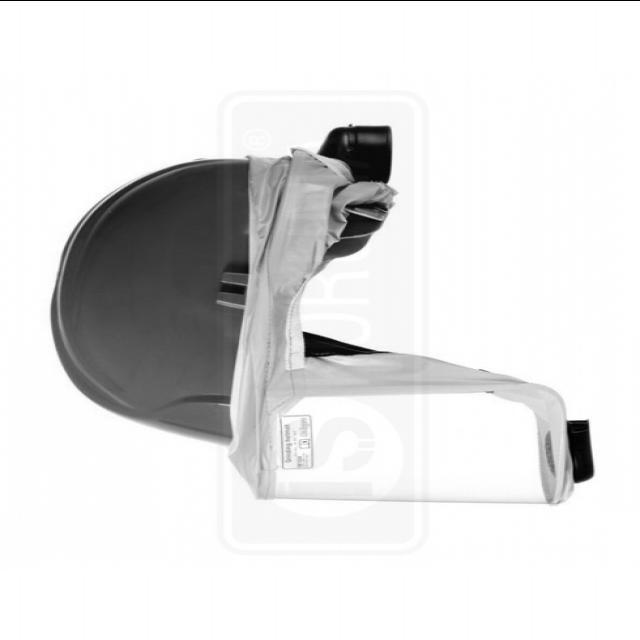safety_helmet: (51, 147, 392, 448)
